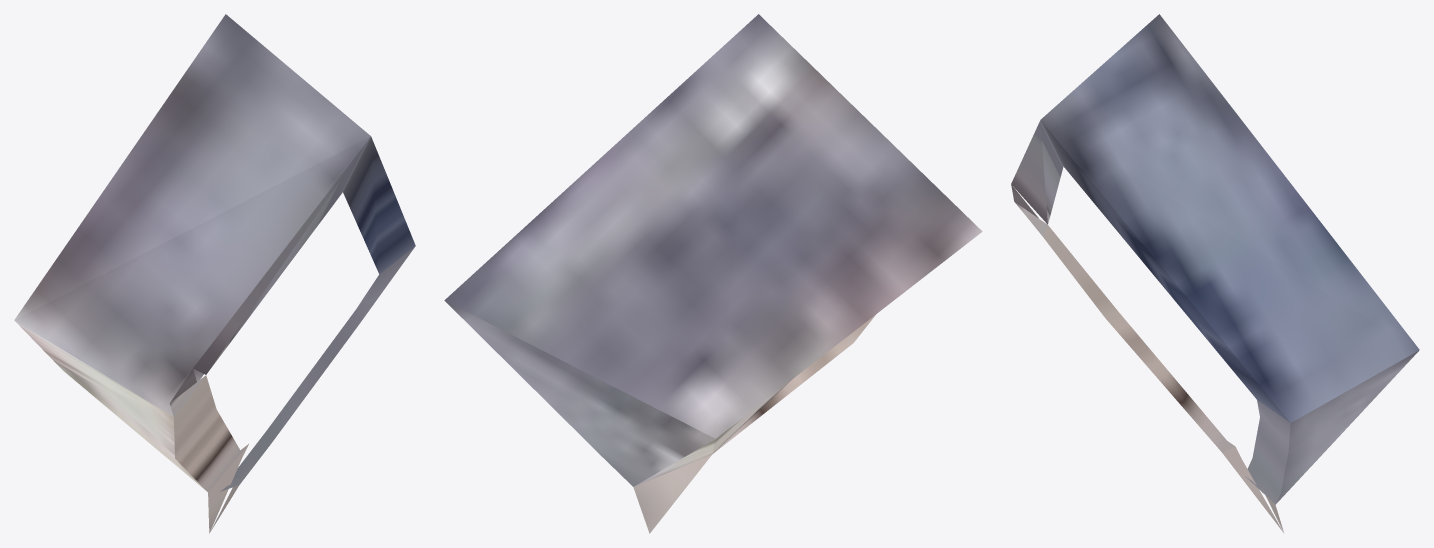
The picture shows the model from 3 angles, left to right: view 1: azimuth 30°, elevation 25°; view 2: azimuth 150°, elevation 25°; view 3: azimuth 270°, elevation 25°; orthographic projection. The views are drawn at different scales.
Size of the model in its own units: 9.49 by 10.48 by 7.83.
Materials: 1 (1 with a texture image).
